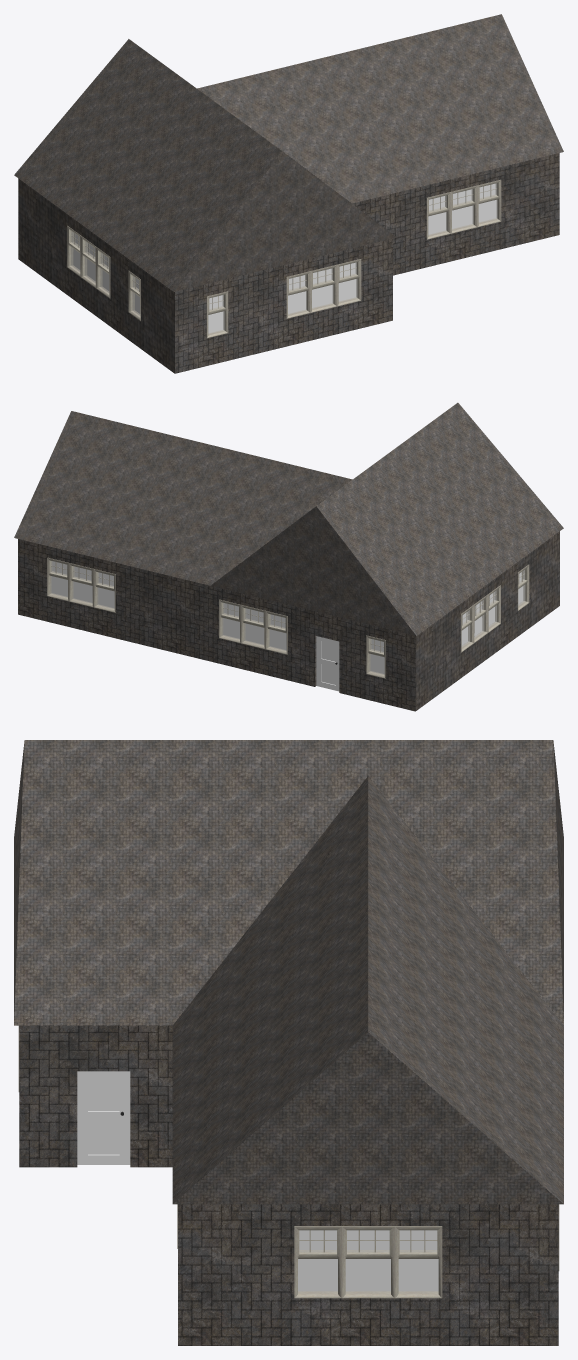
Rendered from RandomHouseOutside08.fbx.
The picture shows the model from 3 angles, top to bottom: view 1: azimuth 30°, elevation 25°; view 2: azimuth 150°, elevation 25°; view 3: azimuth 270°, elevation 25°; orthographic projection. The views are drawn at different scales.
Visible parts, largest first — view 1: Slanted Roof, Outside Plain Wall (Floor 1), FancyWindow_stretched (×11), BuildingFiller; view 2: Slanted Roof, Outside Plain Wall (Floor 1), FancyWindow_stretched (×11), BuildingFiller, generic_door; view 3: Slanted Roof, Outside Plain Wall (Floor 1), FancyWindow_stretched (×3), BuildingFiller, generic_door.
Boxes of the visible parts, x1,y1,x2,y2 form: Slanted Roof: (14,14,563,291); Outside Plain Wall (Floor 1): (18,153,559,373); FancyWindow_stretched (×11): (67,179,501,338); BuildingFiller: (73,184,496,332); Slanted Roof: (14,402,563,635); Outside Plain Wall (Floor 1): (18,531,559,711); FancyWindow_stretched (×11): (47,557,529,678); BuildingFiller: (51,561,523,673); generic_door: (316,636,339,691); Slanted Roof: (14,740,563,1204); Outside Plain Wall (Floor 1): (19,1025,558,1345); FancyWindow_stretched (×3): (294,1226,442,1298); BuildingFiller: (298,1230,438,1290); generic_door: (77,1071,130,1164).
Bounding box in the file's own units: 16.4 × 7 × 10.4.
